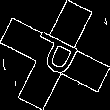P_SE: (24, 27, 86, 83)
